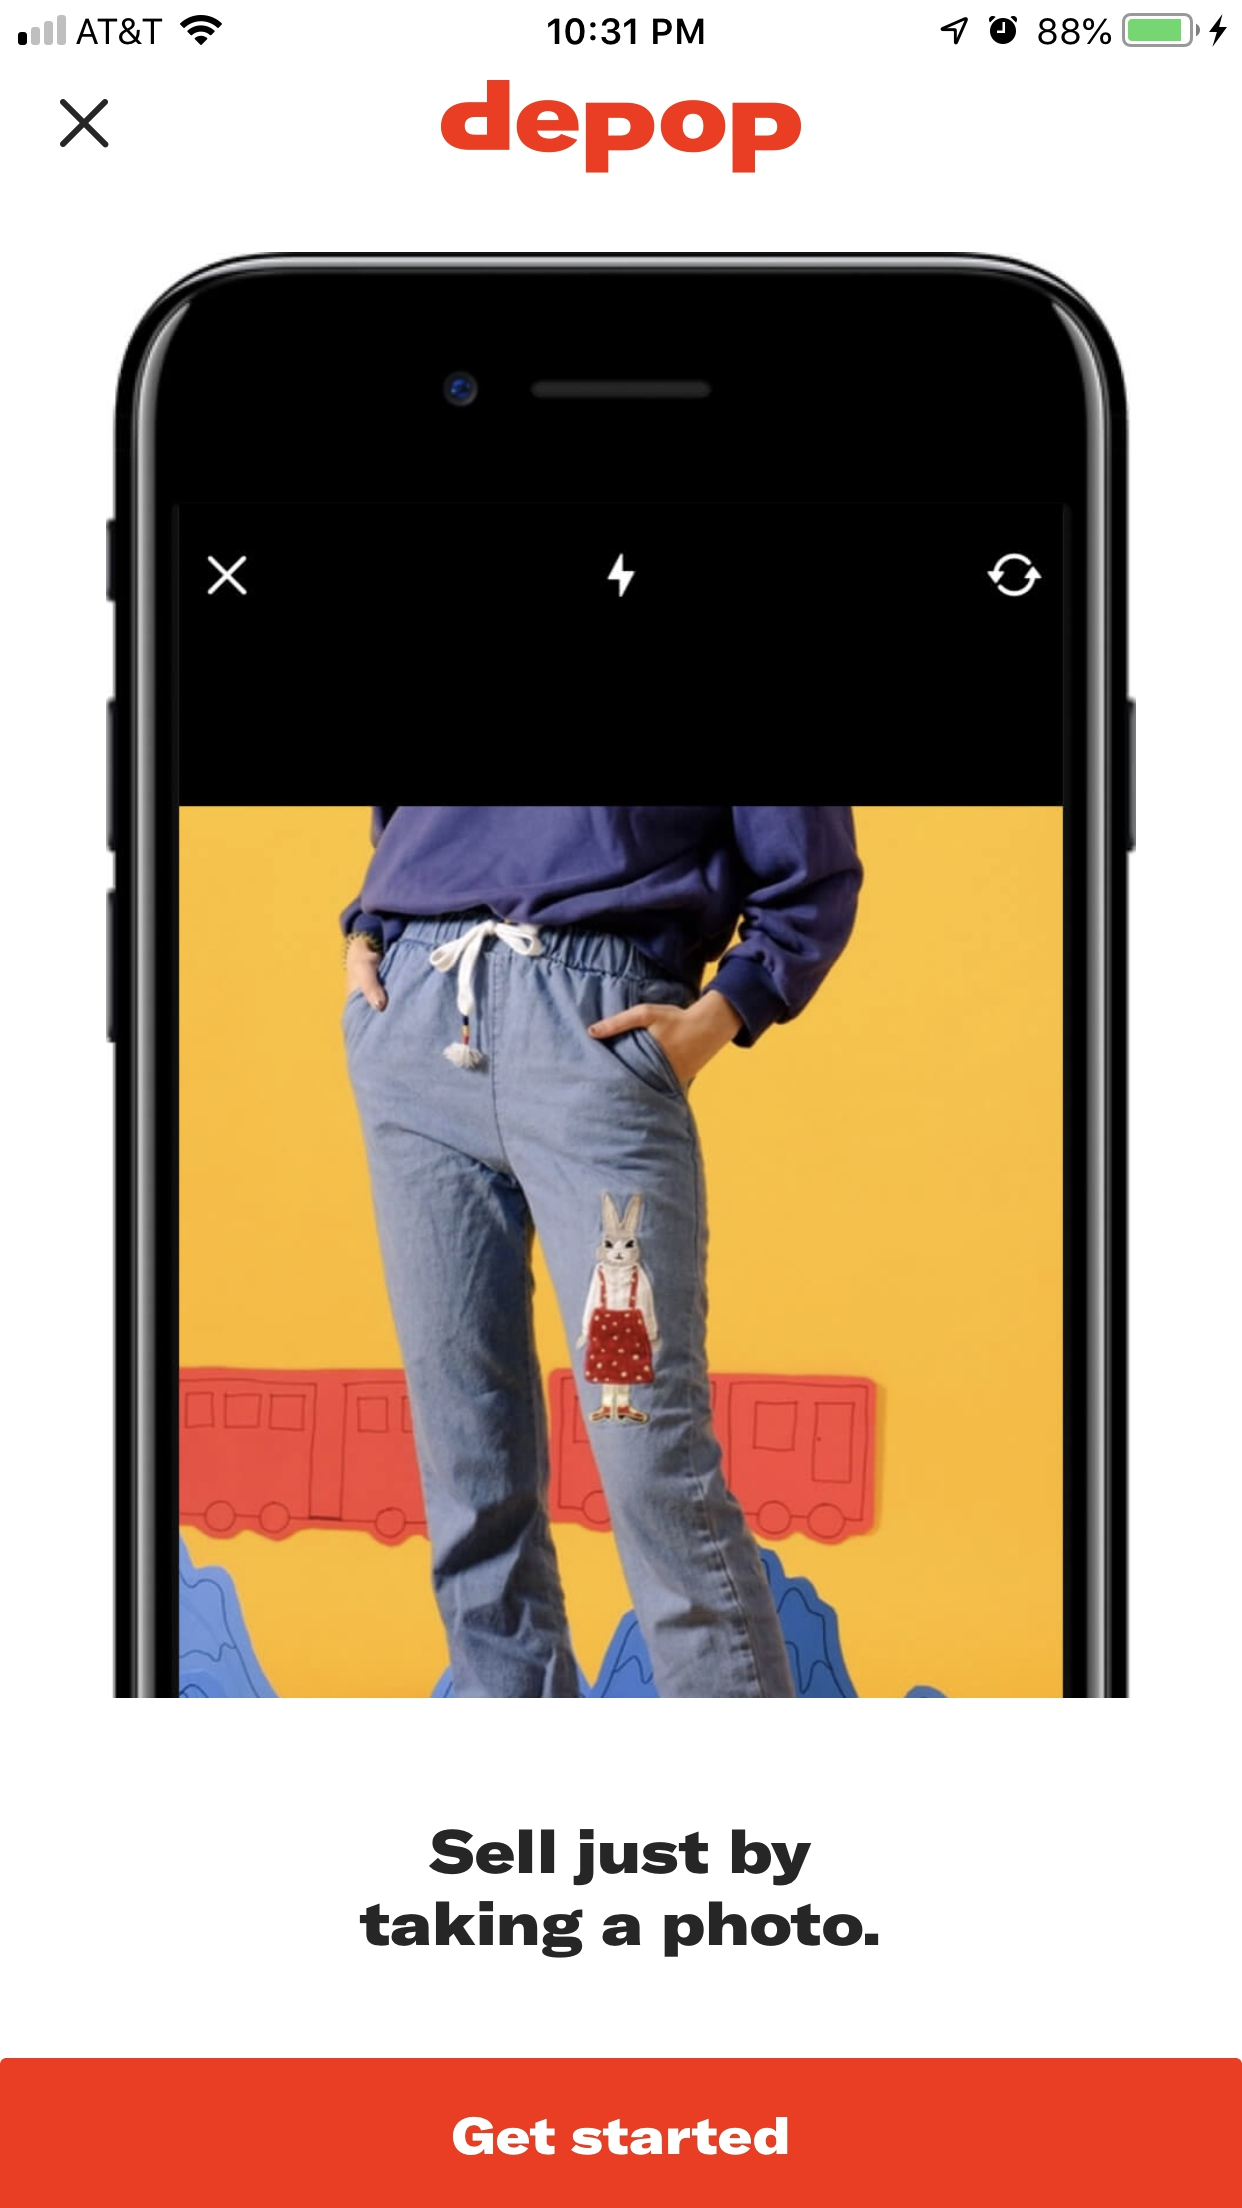Icon: (61, 99, 111, 149)
Image: (108, 252, 1137, 1698)
Text: (359, 1827, 878, 1958), (441, 80, 802, 174)
TextButton: (2, 2058, 1242, 2208)
UpperTaskBar: (2, 2, 1242, 49)
